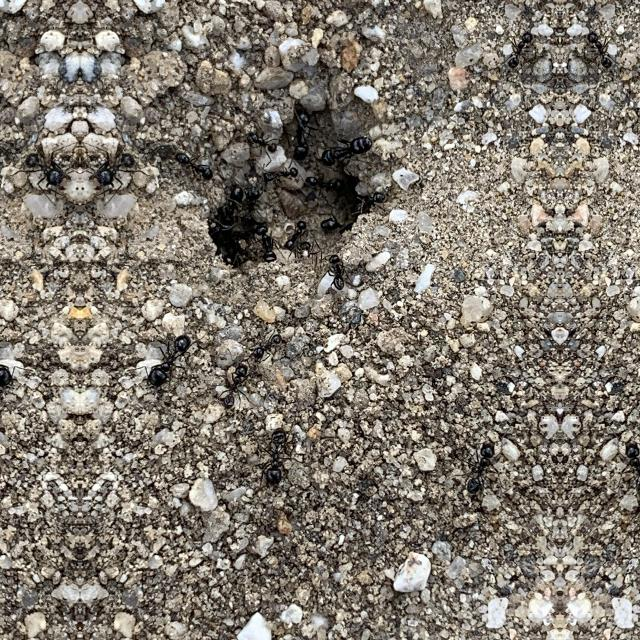Messor: (142, 326, 194, 400), (317, 128, 373, 176), (460, 436, 496, 502), (260, 418, 292, 492), (92, 143, 134, 194), (26, 143, 68, 194), (282, 106, 316, 160), (218, 360, 252, 410), (249, 328, 289, 368), (502, 29, 538, 73), (582, 29, 618, 73), (251, 220, 283, 266), (168, 154, 216, 184), (239, 128, 285, 158), (0, 325, 18, 400), (302, 170, 346, 198), (321, 209, 361, 239), (258, 160, 300, 188), (238, 180, 264, 222), (354, 187, 388, 219), (281, 216, 309, 254), (624, 436, 640, 502), (327, 249, 351, 291), (220, 182, 240, 214)
